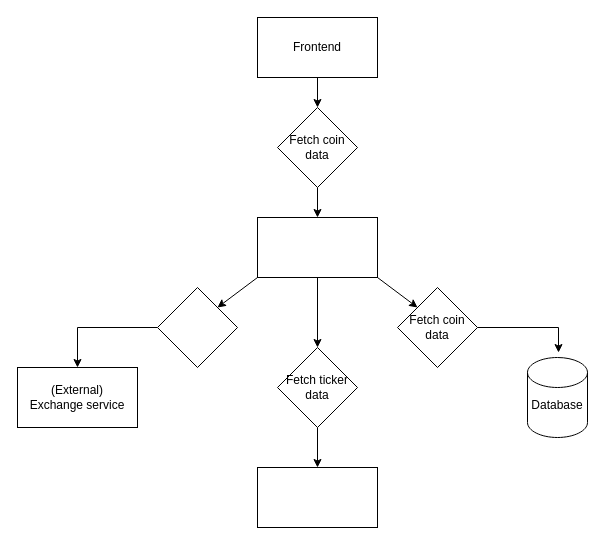
Image size: 605x545. Some labels were removed from this diagram. The shapes that lost their labels are listed below. From the top down, each one's centre as x and y in pixels, then its label:
At point (317, 247): "Backend".
At point (197, 327): "Fetch exchange data".
At point (317, 497): "Binance".
